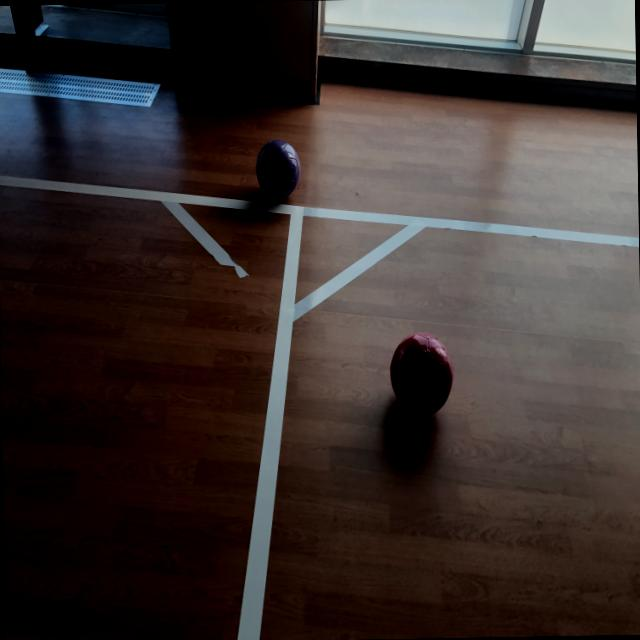purple_ball: (252, 142, 302, 201)
red_ball: (390, 335, 453, 416)
